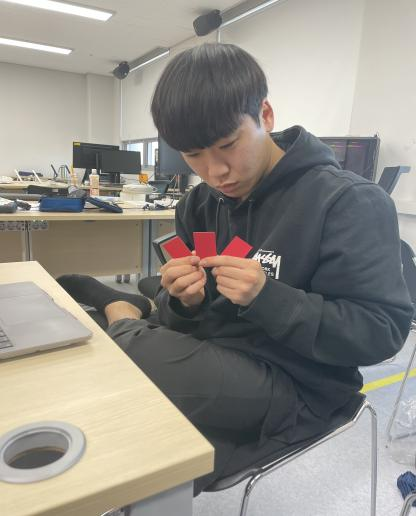ThreeHwatoo: (152, 222, 260, 270)
